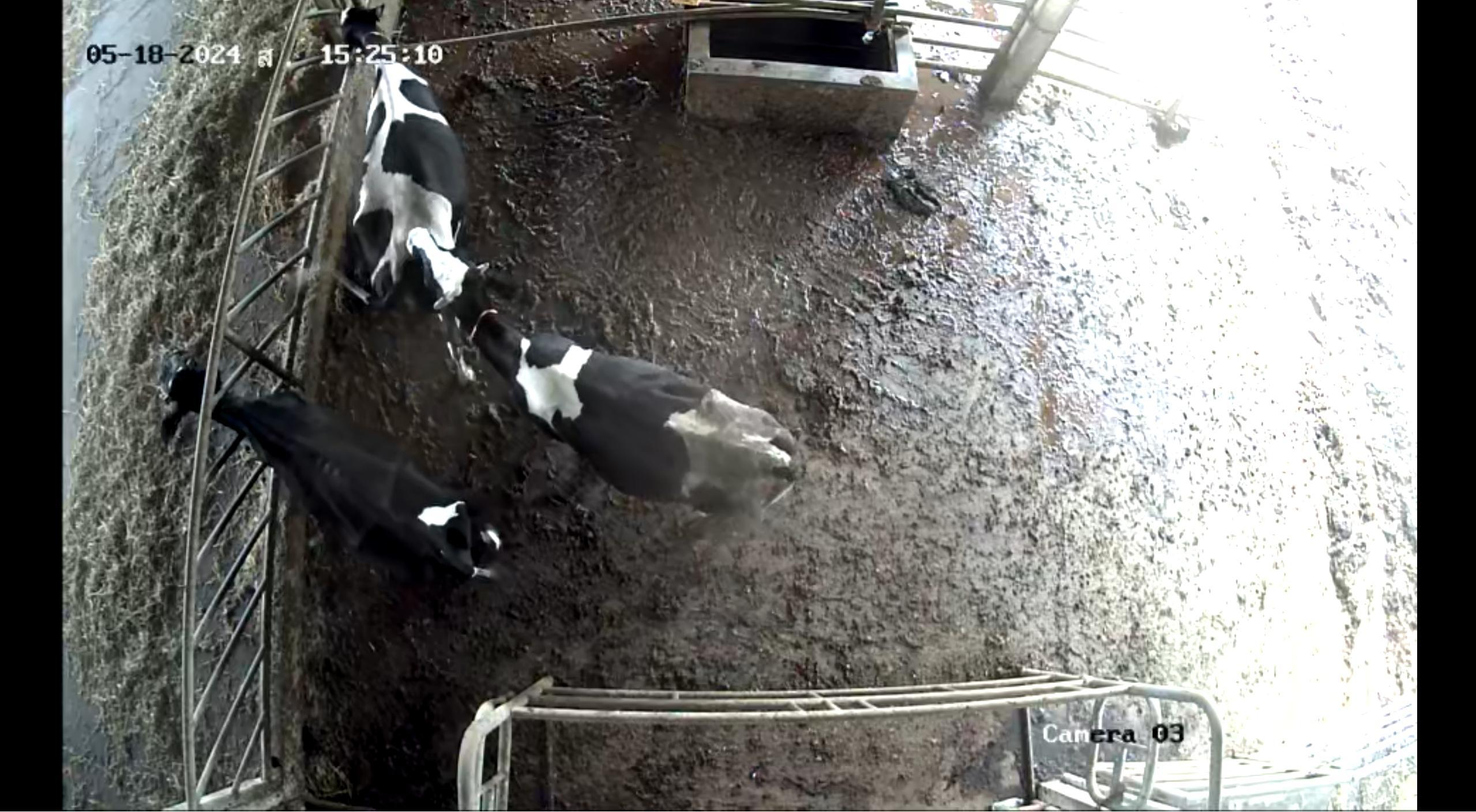eat: (138, 344, 276, 460)
propping: (375, 204, 510, 361)
stand: (308, 5, 502, 311)
